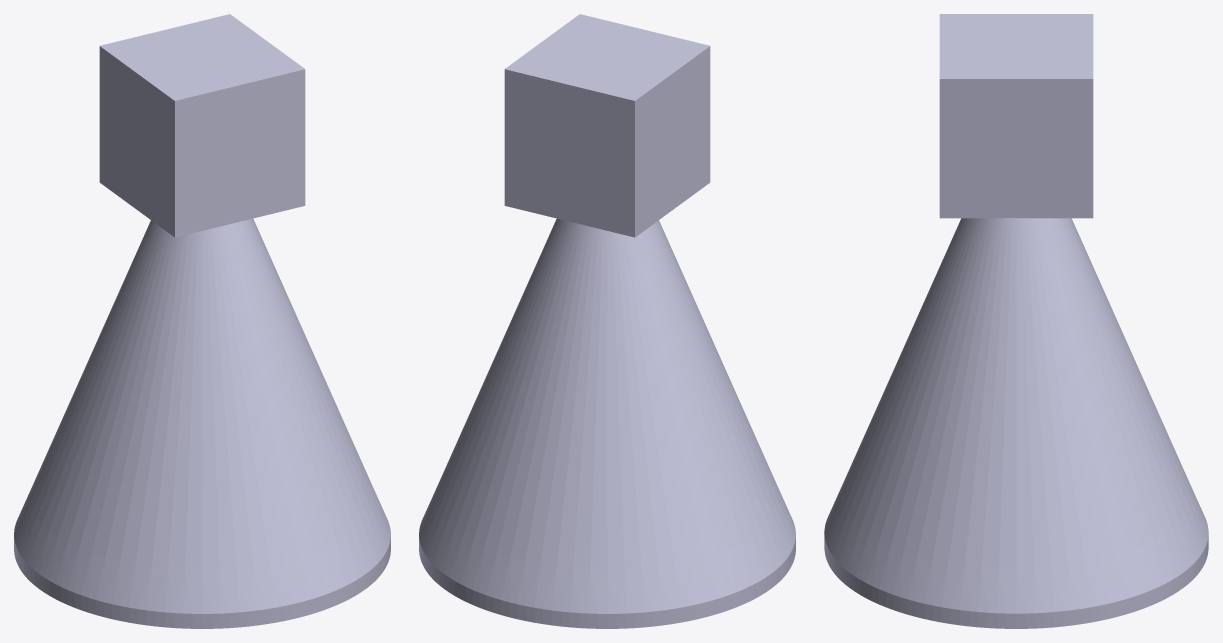
The model's file is MainThruster.dae.
3 renders of one model, left to right at view 1: azimuth 30°, elevation 25°; view 2: azimuth 150°, elevation 25°; view 3: azimuth 270°, elevation 25°, orthographic.
Visible parts, largest first — view 1: node0; view 2: node0; view 3: node0.
Boxes of the visible parts, left/top/right/bottom form: node0: left=14, top=14, right=390, bottom=628; node0: left=419, top=14, right=795, bottom=628; node0: left=824, top=14, right=1208, bottom=628.
Bounding box in the file's own units: 0.25 × 0.2499 × 0.36.
